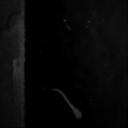fish: (50, 88, 82, 119)
